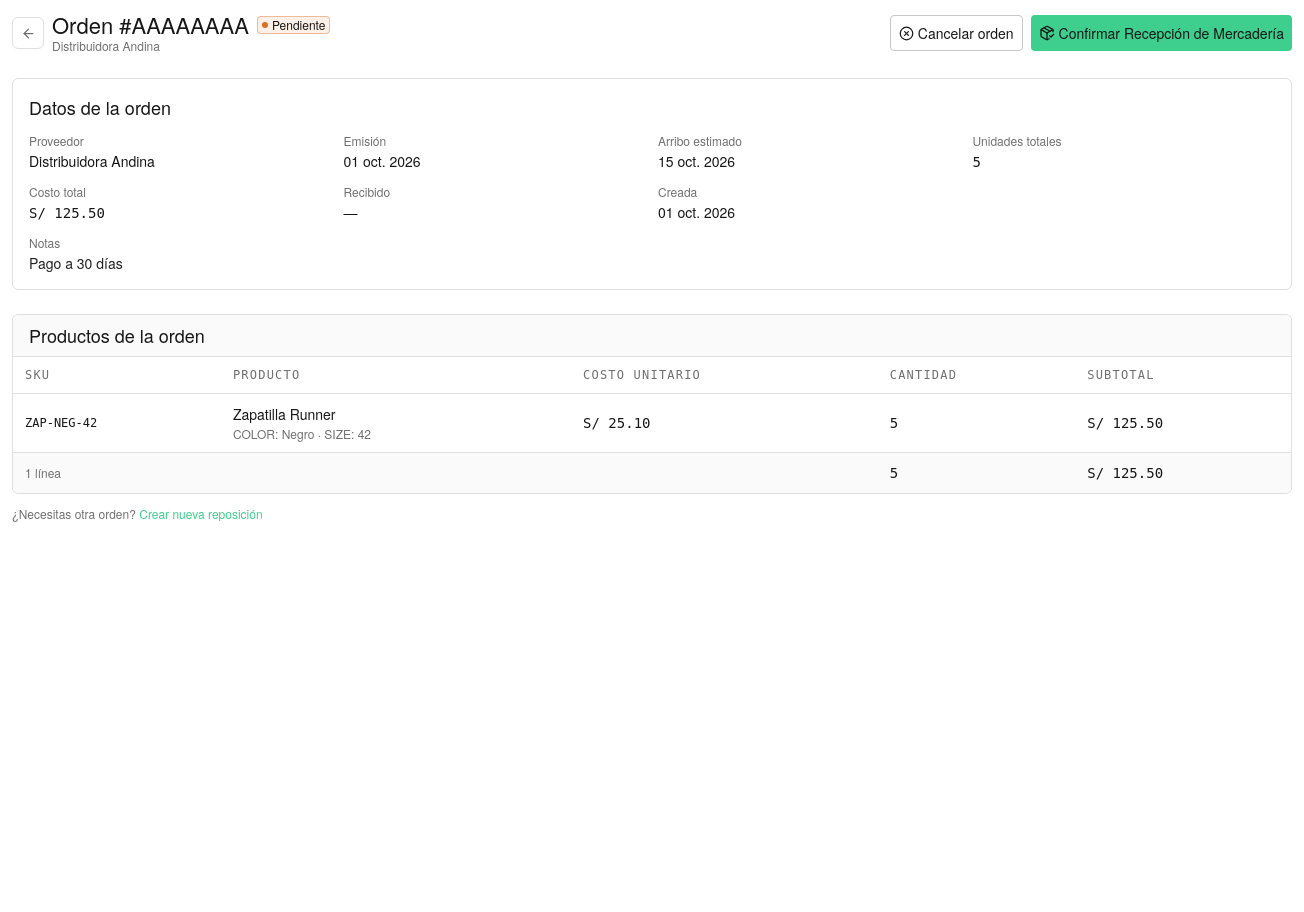
Test case: DetalleReposicionPage (HU036 CA08/CA10) › confirma la recepción y muestra el mensaje de éxito
Expected: the heading "Orden #AAAAAAAA" is shown, [52,12,249,38]
What coordinates should you click on to do the following:
click the button "Confirmar Recepción de Mercadería"
I would click on:
 (1161, 33)
Its box is [1031,15,1292,51].
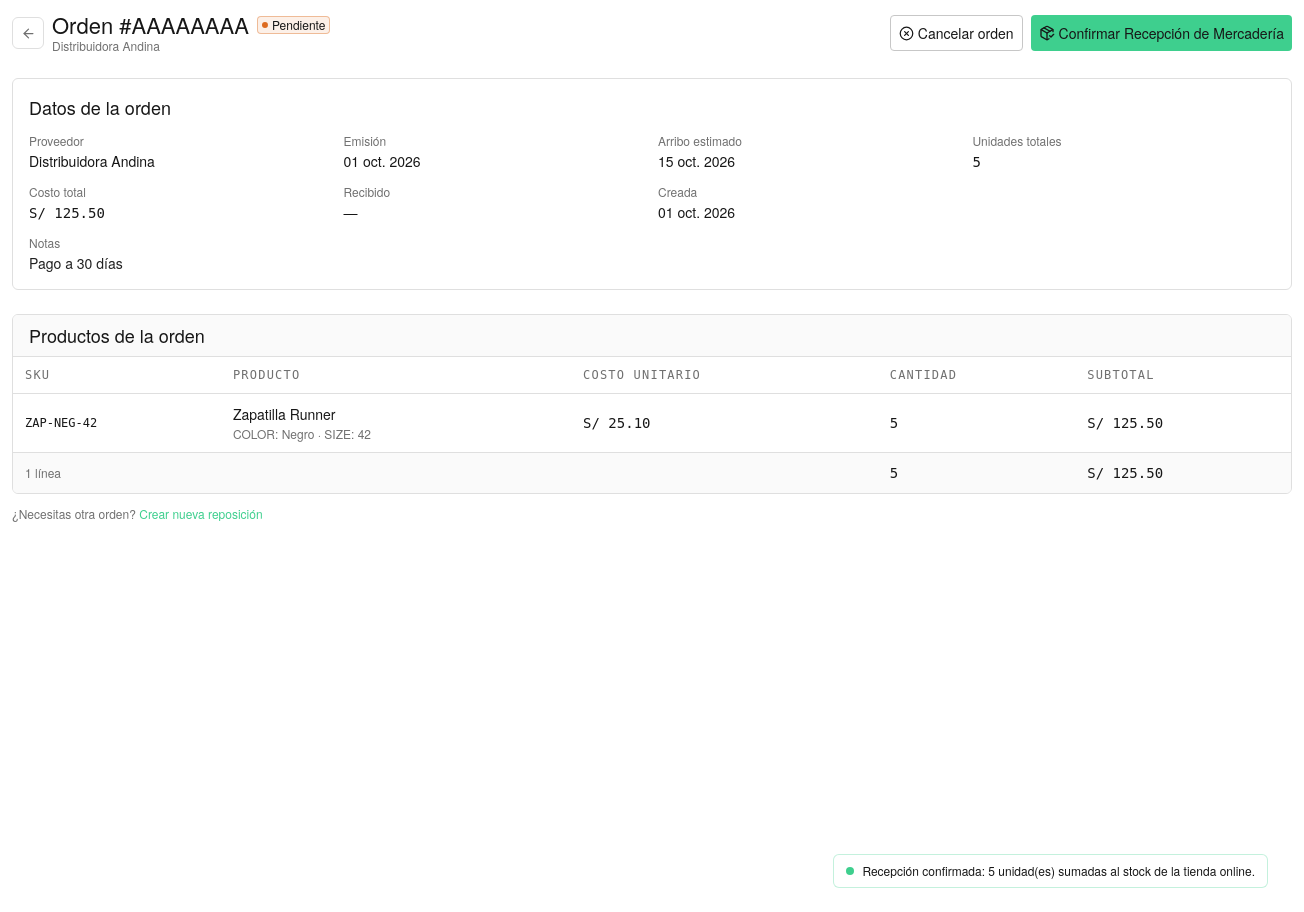
Expected: the text "Recibido" is shown, [344,183,390,200]
Expected: the text "5 unidad(es) sumadas al stock" is shown, [862,862,1255,879]
